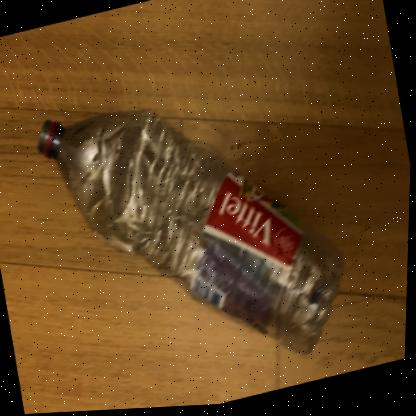Plastic: (40, 111, 345, 358)
